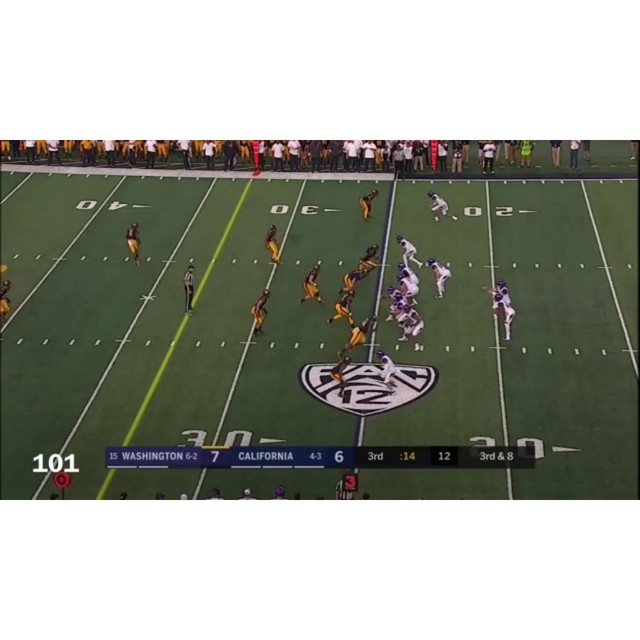american-football-player: (339, 314, 378, 355), (398, 306, 426, 353), (326, 289, 357, 329), (492, 293, 516, 342), (426, 257, 452, 299), (301, 261, 324, 306), (250, 288, 272, 334), (427, 190, 457, 222), (396, 234, 423, 269), (339, 266, 370, 296), (330, 353, 351, 395), (376, 348, 397, 385), (125, 221, 142, 266), (396, 273, 419, 306), (359, 189, 379, 221), (358, 243, 380, 272), (265, 224, 280, 264), (398, 262, 421, 288), (0, 279, 12, 327)
referee: (182, 264, 197, 315)
